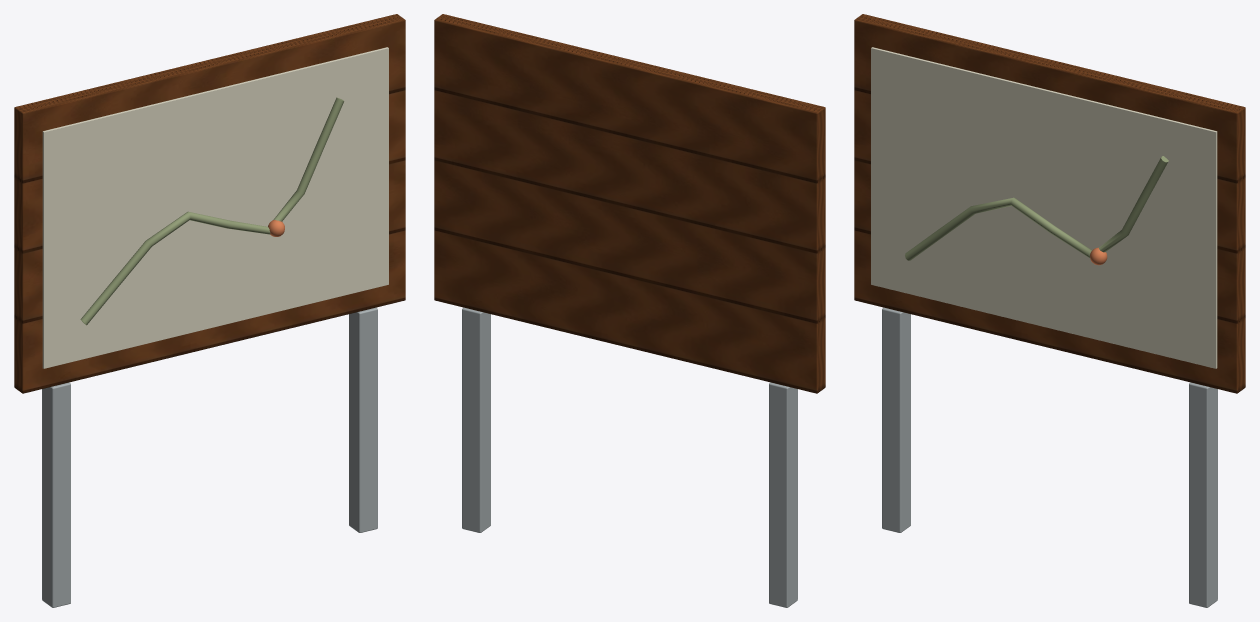
File: extraction-routes-and-objectives-rendezvous-map-board-cb523b4a__22183.glb
3 renders of one model, left to right at view 1: azimuth 30°, elevation 25°; view 2: azimuth 150°, elevation 25°; view 3: azimuth 330°, elevation 25°, orthographic.
Visible parts, largest first — view 1: rendezvous-map-board; view 2: rendezvous-map-board; view 3: rendezvous-map-board.
Boxes of the visible parts, box(x1,y1,x2,y2) form: rendezvous-map-board: box(14, 14, 405, 607); rendezvous-map-board: box(434, 14, 825, 607); rendezvous-map-board: box(854, 14, 1245, 607).
Size of the model in its own units: 1 by 1.25 by 0.085.
5 materials, 1 textured.
